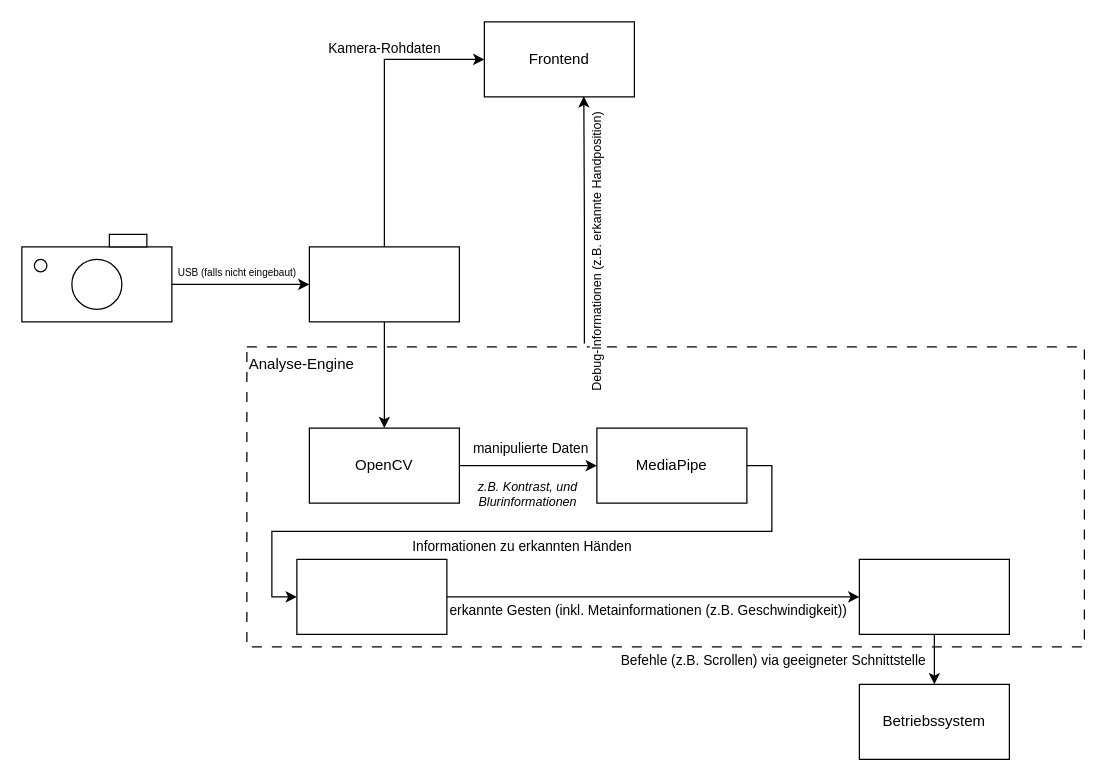
Image size: 1106x781. Some labels were removed from this diagram. The centre of each missing label's shape, as x and y in pixels:
Camera Handler: the point at 383,284
Gesture Interpreter: the point at 933,596
Gesture Recognition Engine: the point at 371,596
